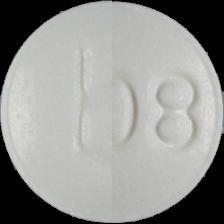0555-9014: (0, 0, 224, 224)
